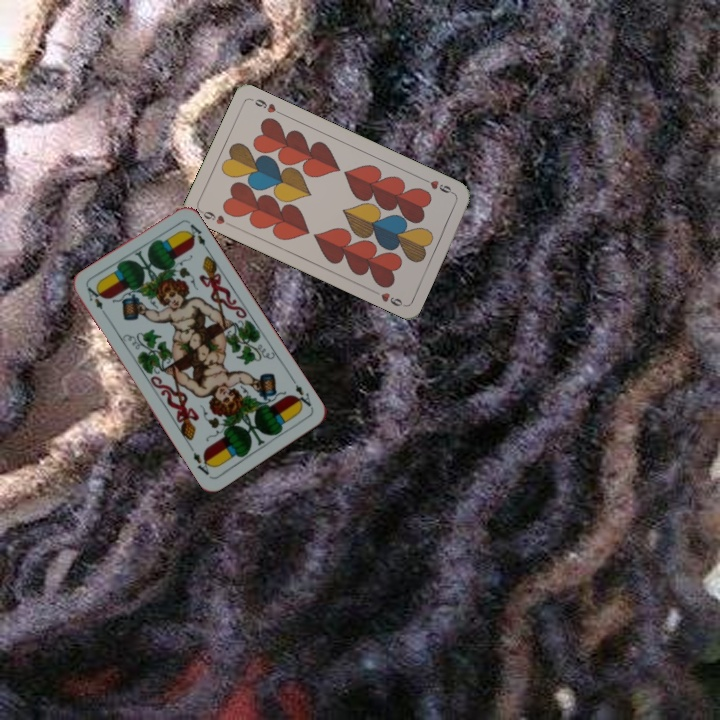EA: (288, 375, 315, 412), (83, 283, 105, 312)
H9: (196, 206, 235, 229), (419, 174, 457, 197)
